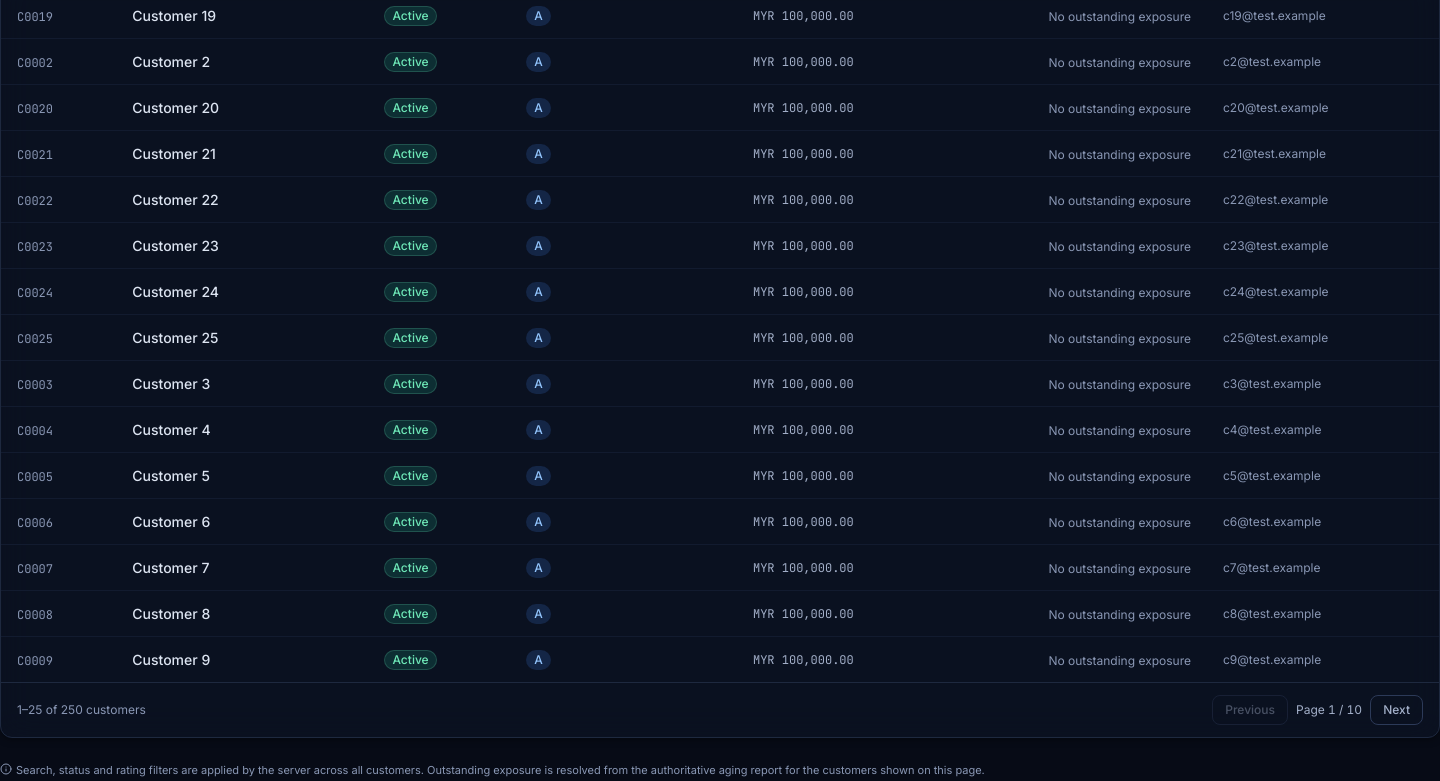
Test: Customer list — credit_rating propagation (B9DD-FR-005) › resets to page 1 and never requests page 2 under a new rating
(page scrolled)
Step 1. Click the button "Next" → (1397, 710), box [1370,695,1423,725]
(page scrolled)
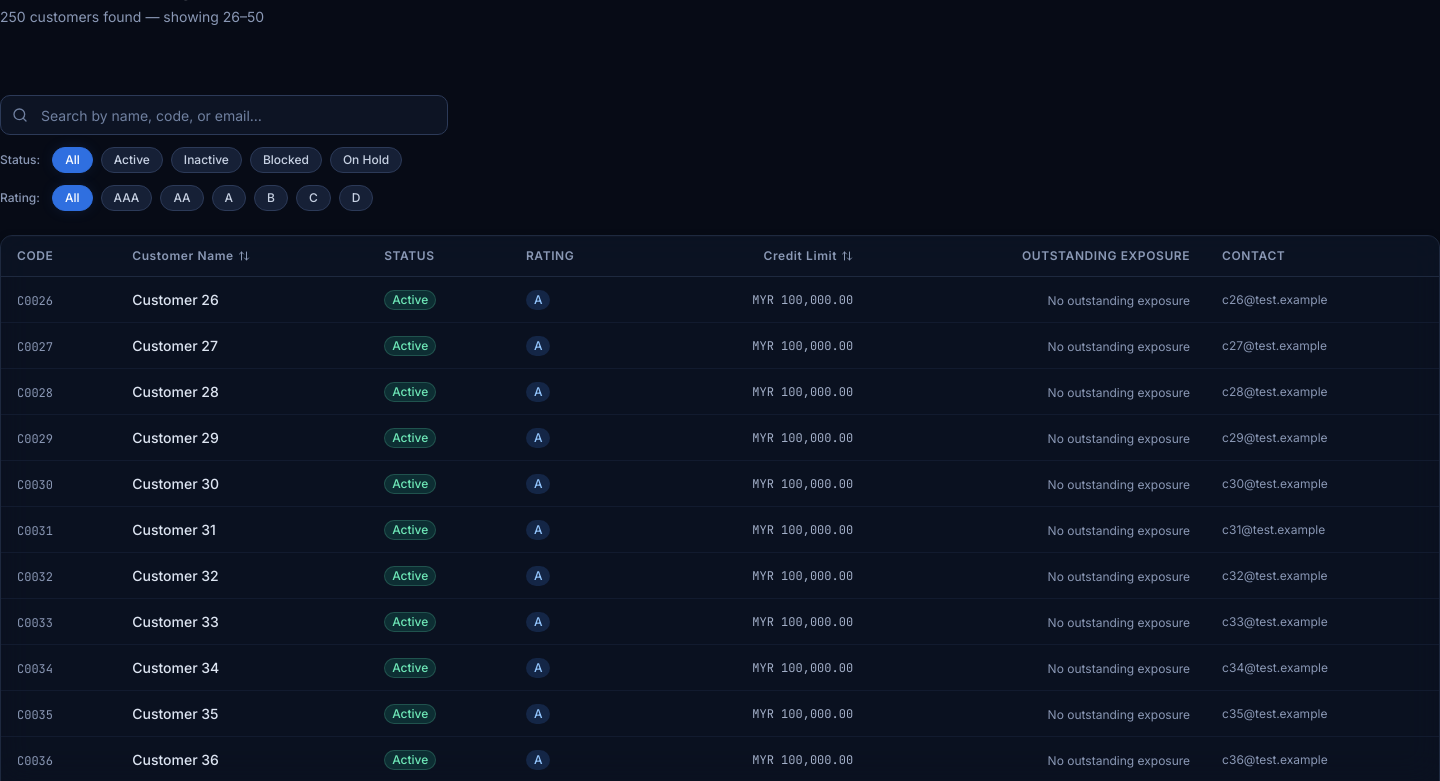
Step 2. Click the button "B" → (271, 198), box [254,185,288,211]
(page scrolled)
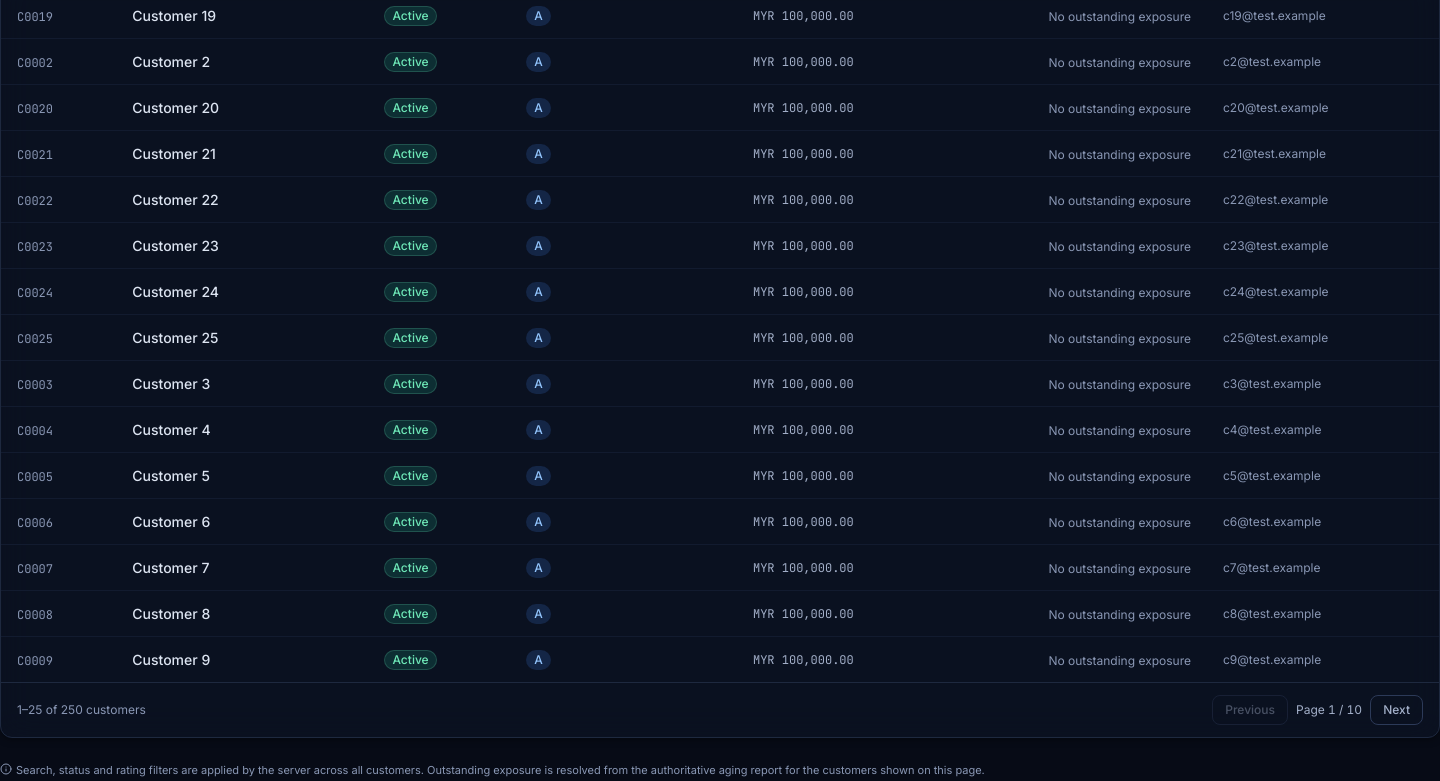
Expected: the text "Page 1 / 10" is shown, [1296,702,1362,718]
